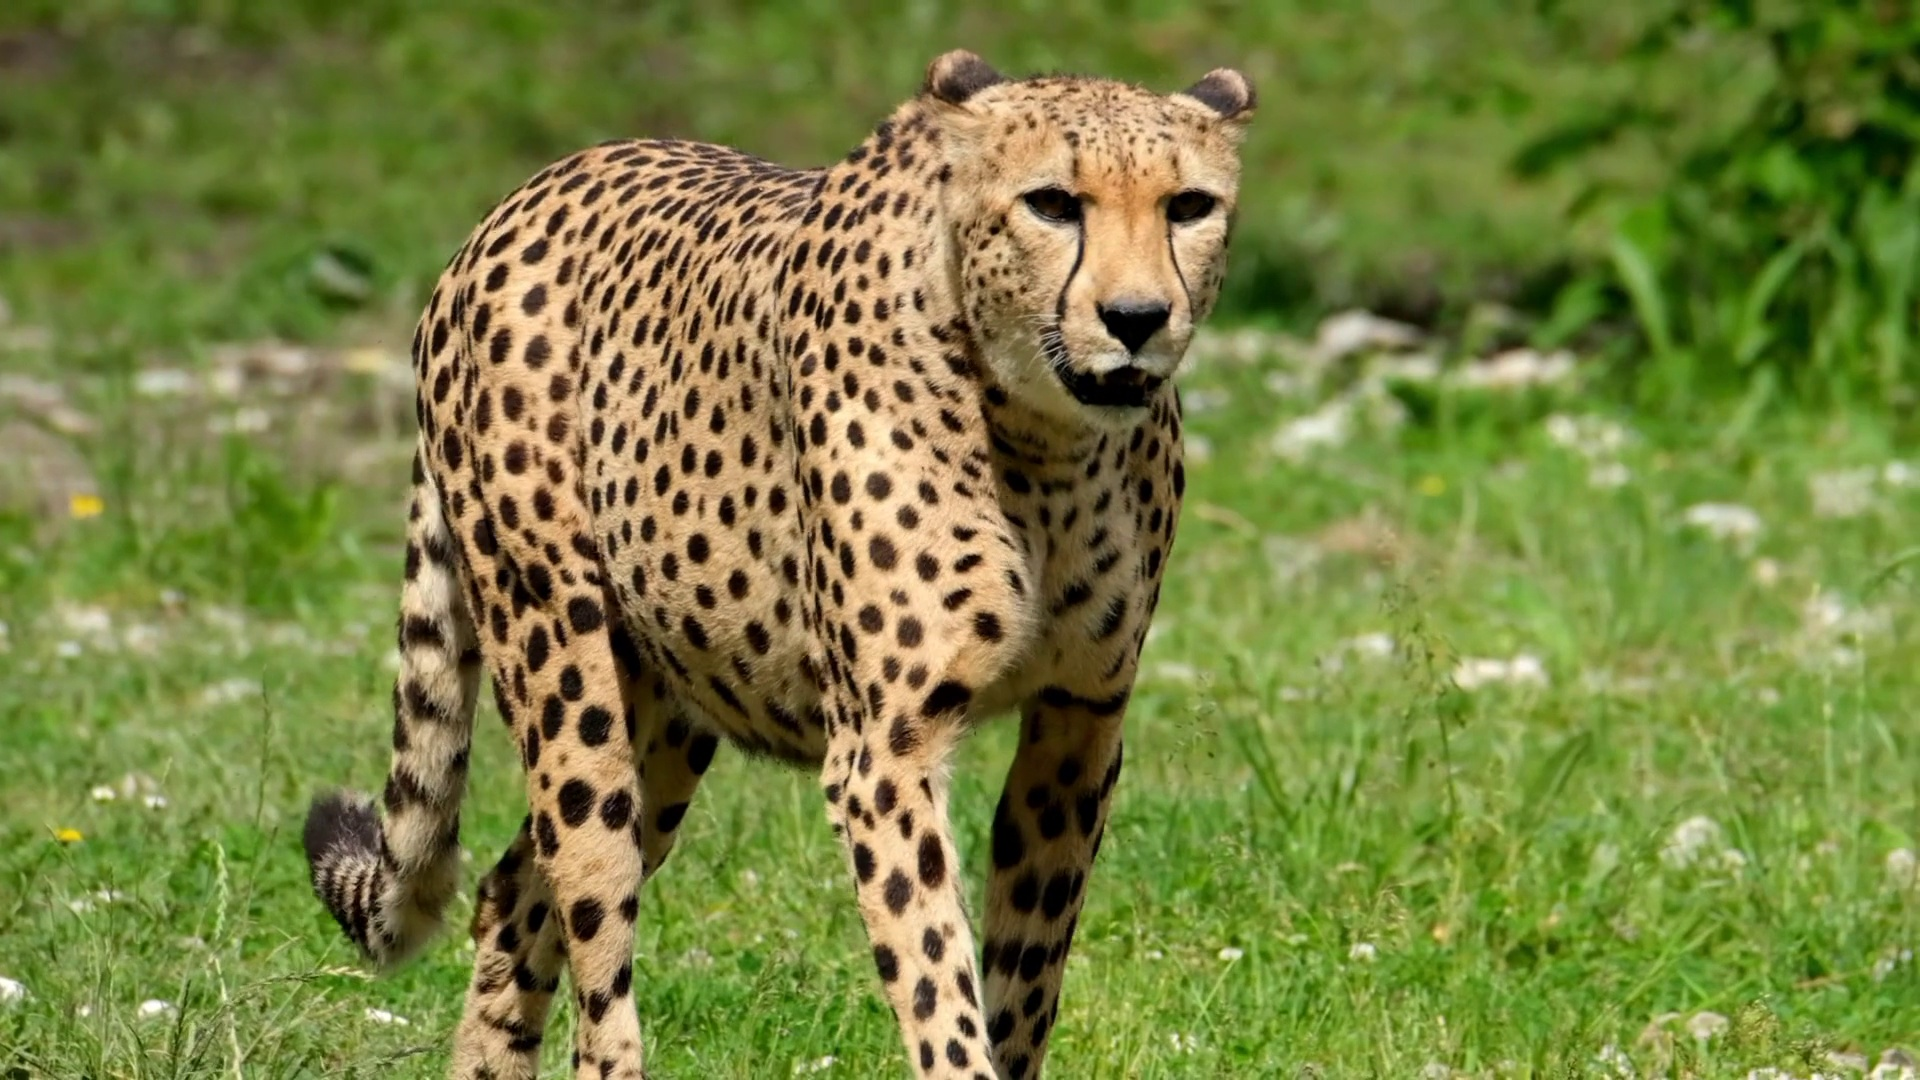Cheetah: (295, 42, 1261, 1080)
